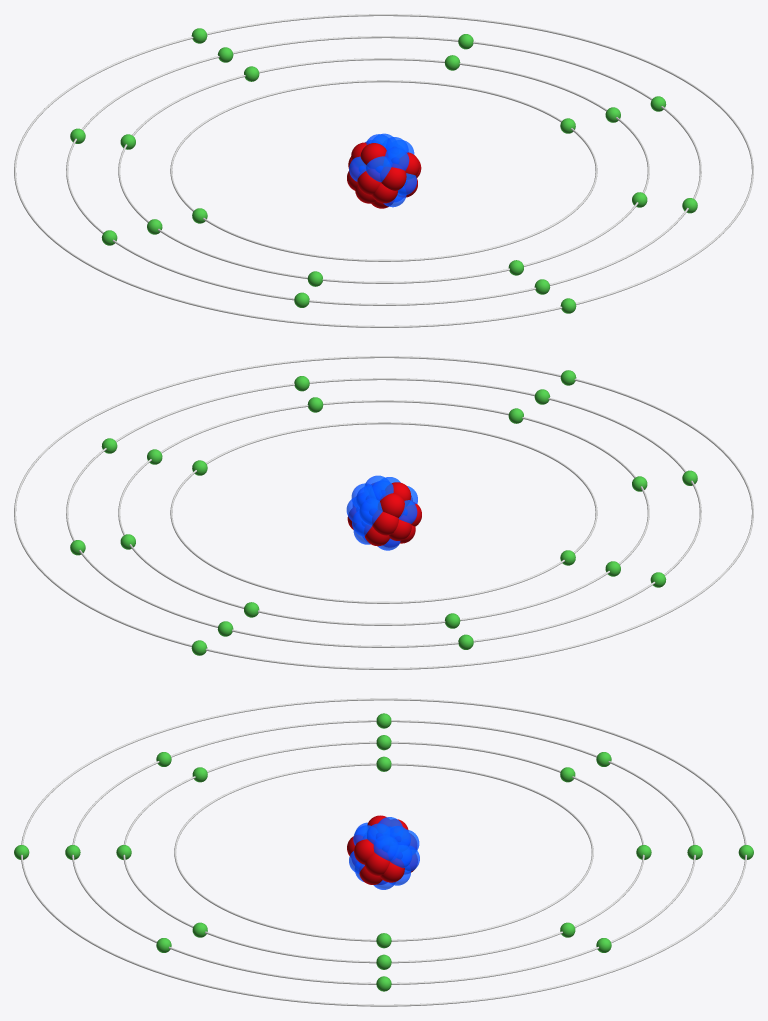
The model's file is Calcium.glb.
3 renders of one model, top to bottom at view 1: azimuth 30°, elevation 25°; view 2: azimuth 150°, elevation 25°; view 3: azimuth 270°, elevation 25°, orthographic.
Parts seen in each view (by area): view 1: calcium orbital 1.022, calcium orbital 1.019, calcium orbital 1.021, element_020_calcium_nucleus, calcium orbital 1.001; view 2: calcium orbital 1.022, calcium orbital 1.019, calcium orbital 1.021, element_020_calcium_nucleus, calcium orbital 1.001; view 3: calcium orbital 1.022, calcium orbital 1.019, calcium orbital 1.021, element_020_calcium_nucleus, calcium orbital 1.001.
Boxes of the visible parts, <box> form: calcium orbital 1.022: <box>66,34,701,307</box>; calcium orbital 1.019: <box>14,14,753,327</box>; calcium orbital 1.021: <box>118,55,649,286</box>; element_020_calcium_nucleus: <box>347,133,421,208</box>; calcium orbital 1.001: <box>170,80,597,261</box>; calcium orbital 1.022: <box>66,376,701,649</box>; calcium orbital 1.019: <box>14,356,753,669</box>; calcium orbital 1.021: <box>118,397,649,628</box>; element_020_calcium_nucleus: <box>346,475,421,550</box>; calcium orbital 1.001: <box>170,422,597,603</box>; calcium orbital 1.022: <box>65,713,702,991</box>; calcium orbital 1.019: <box>14,698,753,1006</box>; calcium orbital 1.021: <box>116,735,651,969</box>; element_020_calcium_nucleus: <box>347,815,419,889</box>; calcium orbital 1.001: <box>174,756,593,948</box>.
Size of the model in its own units: 1.42 by 0.1435 by 1.45.
